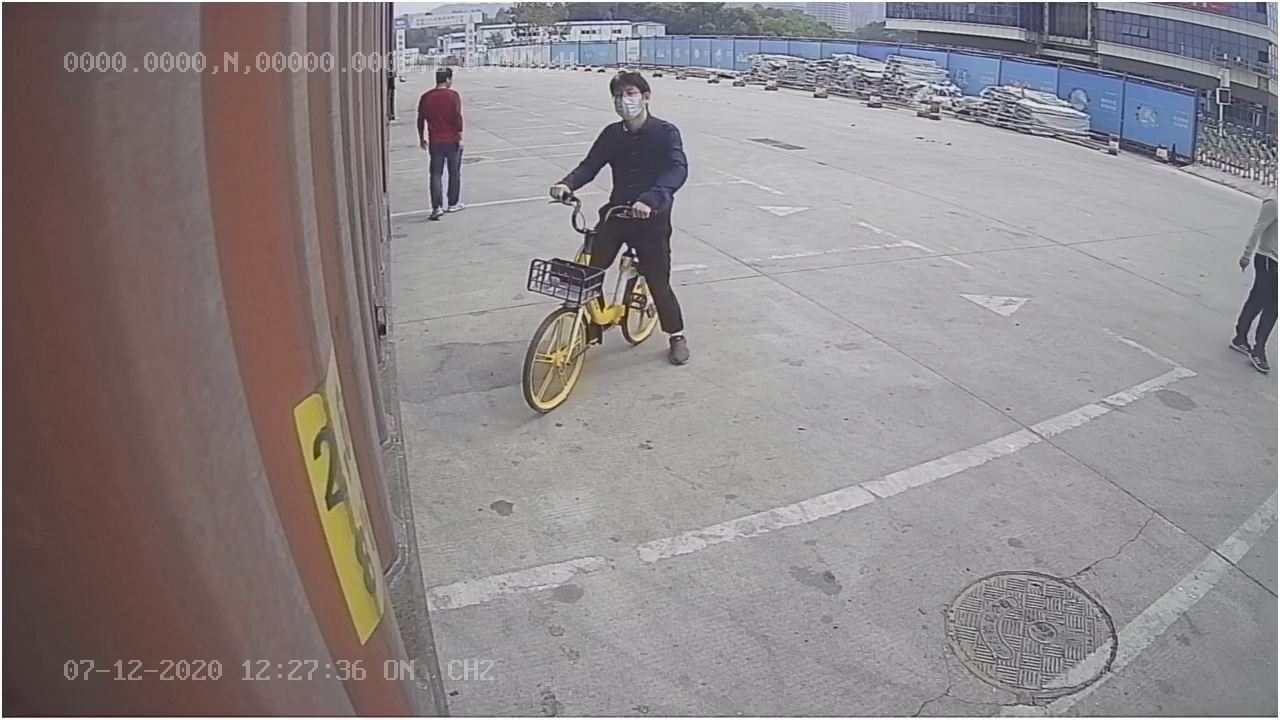person: (412, 62, 473, 226)
